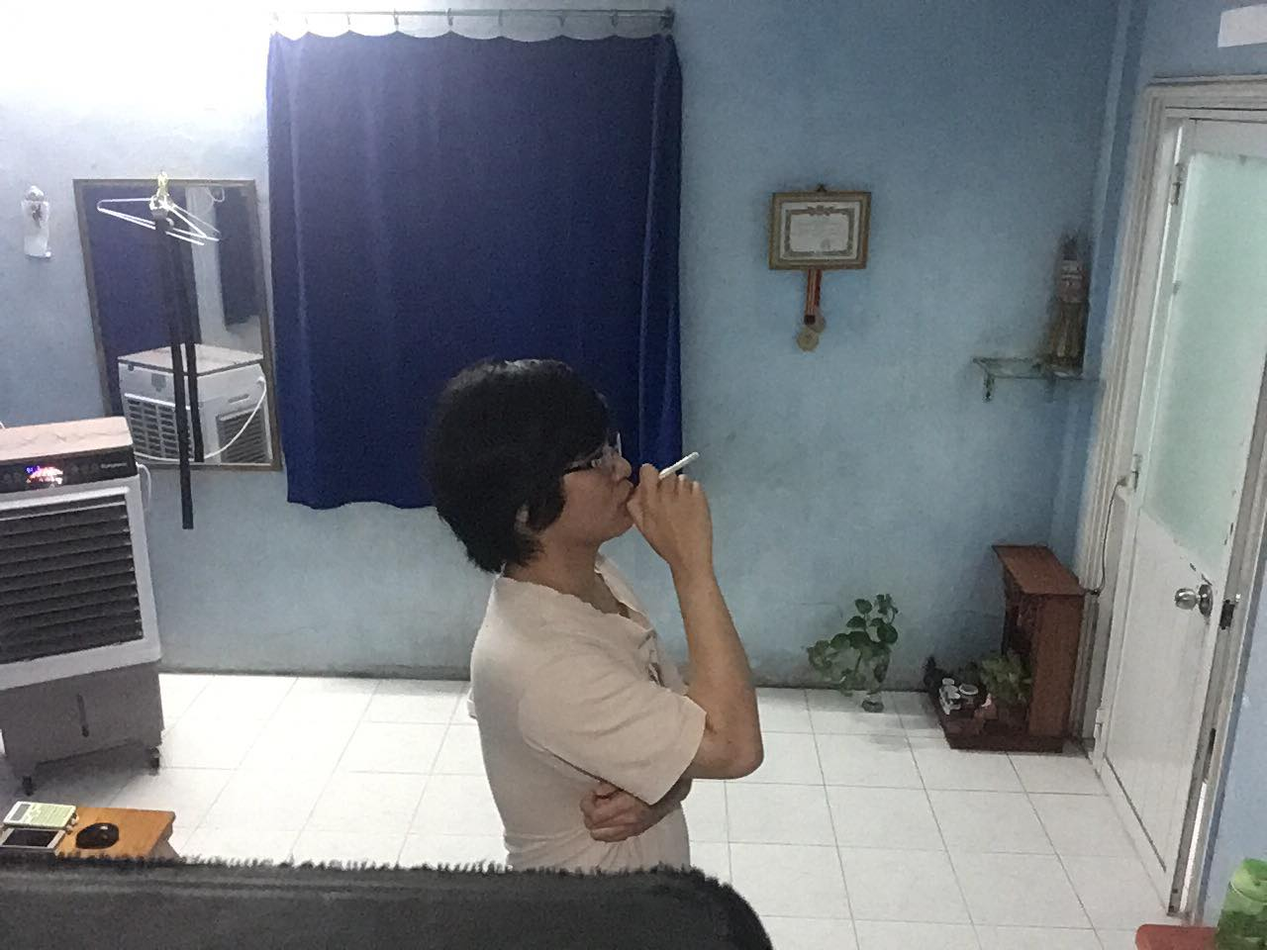cigarette: (659, 446, 707, 483)
person: (423, 354, 768, 898)
